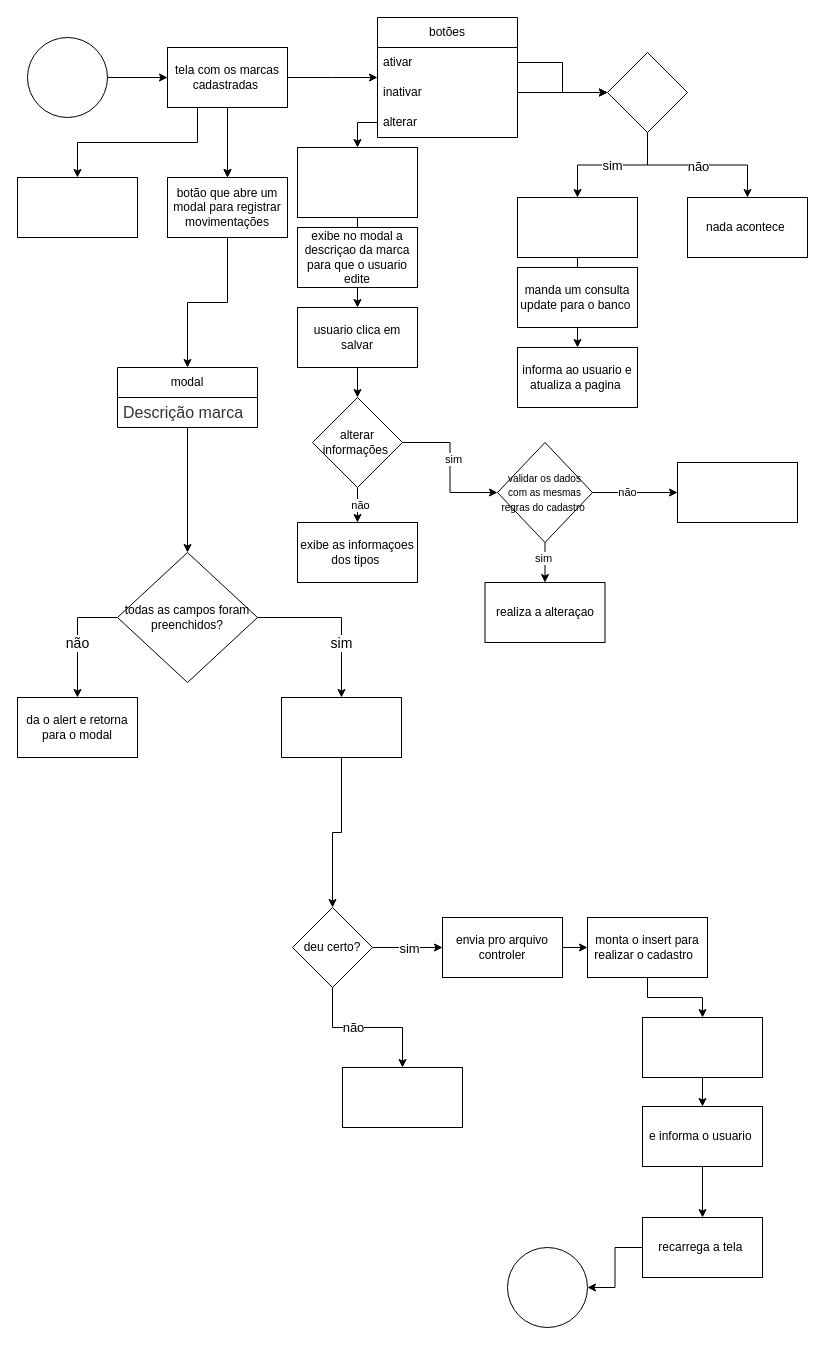
The diagram is 825 pixels wide and 1345 high, and some of its shapes have lost their labels. The shapes that lost their labels are listed below. From the top down, each one's centre as x and y in pixels, then its label:
the point at 67,77: inicio
the point at 647,92: clicou no botão
the point at 357,182: utiliza a ação a busca_info para buscar as informaçoes no banco
the point at 77,207: menu superior
the point at 577,227: executar a ação alterar_status
the point at 737,492: informa ao usuario e volta para o modal
the point at 341,727: valida os campos
the point at 702,1047: realiza o cadastro
the point at 402,1097: retorna para o modal
the point at 547,1287: fim
